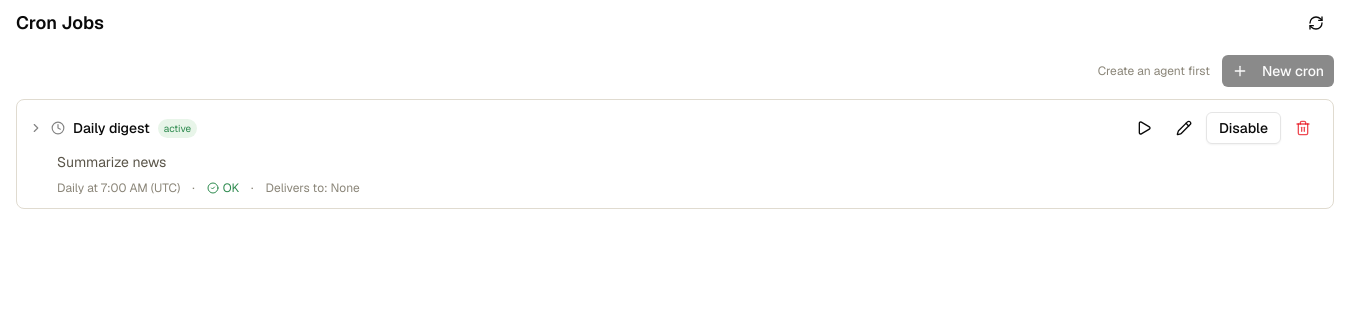
Test: CronPanel ViewState › returns to overview when Back to jobs is clicked
The width and height of the screenshot is (1351, 322).
Click the text "Daily digest".
click(111, 128)  # box [73,118,150,138]
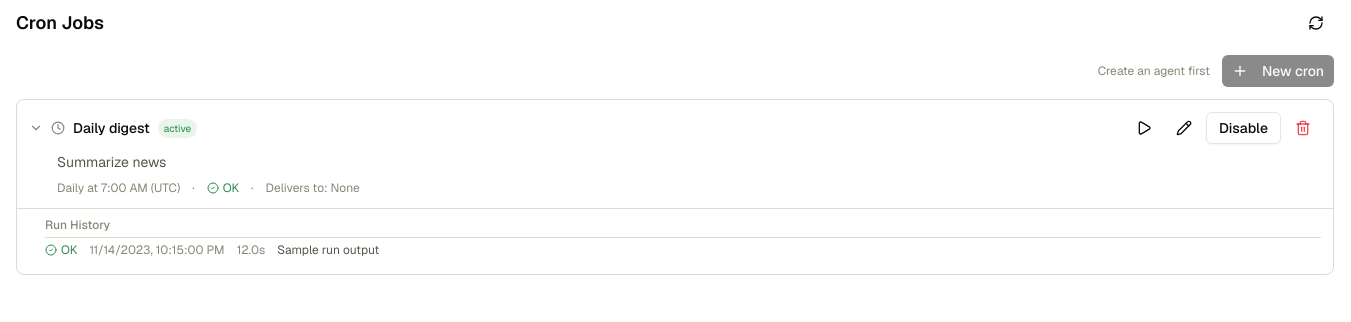
Click the text "Sample run output".
click(328, 250)  # box [277,242,379,258]
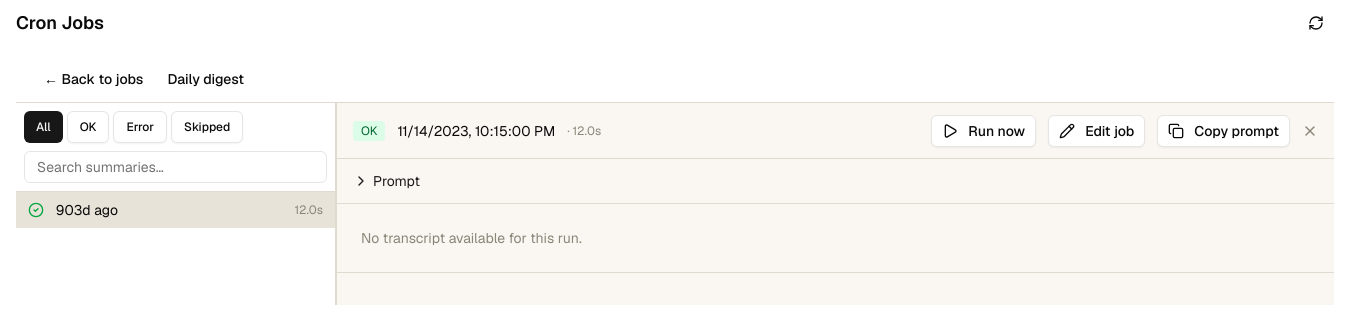
Click the button "← Back to jobs".
click(94, 78)  # box [32,62,155,94]
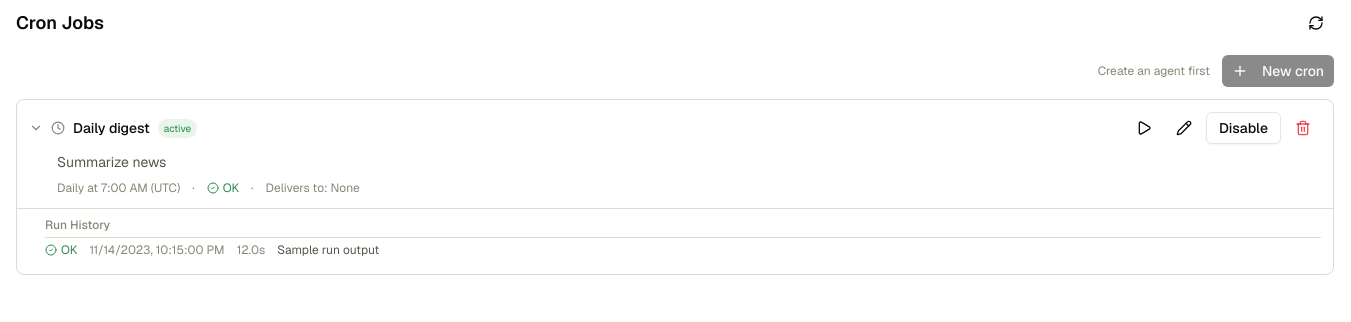
Check: the text "Daily digest" is shown, box [73,118,150,138]
Check: the button "Back to jobs" is gone
